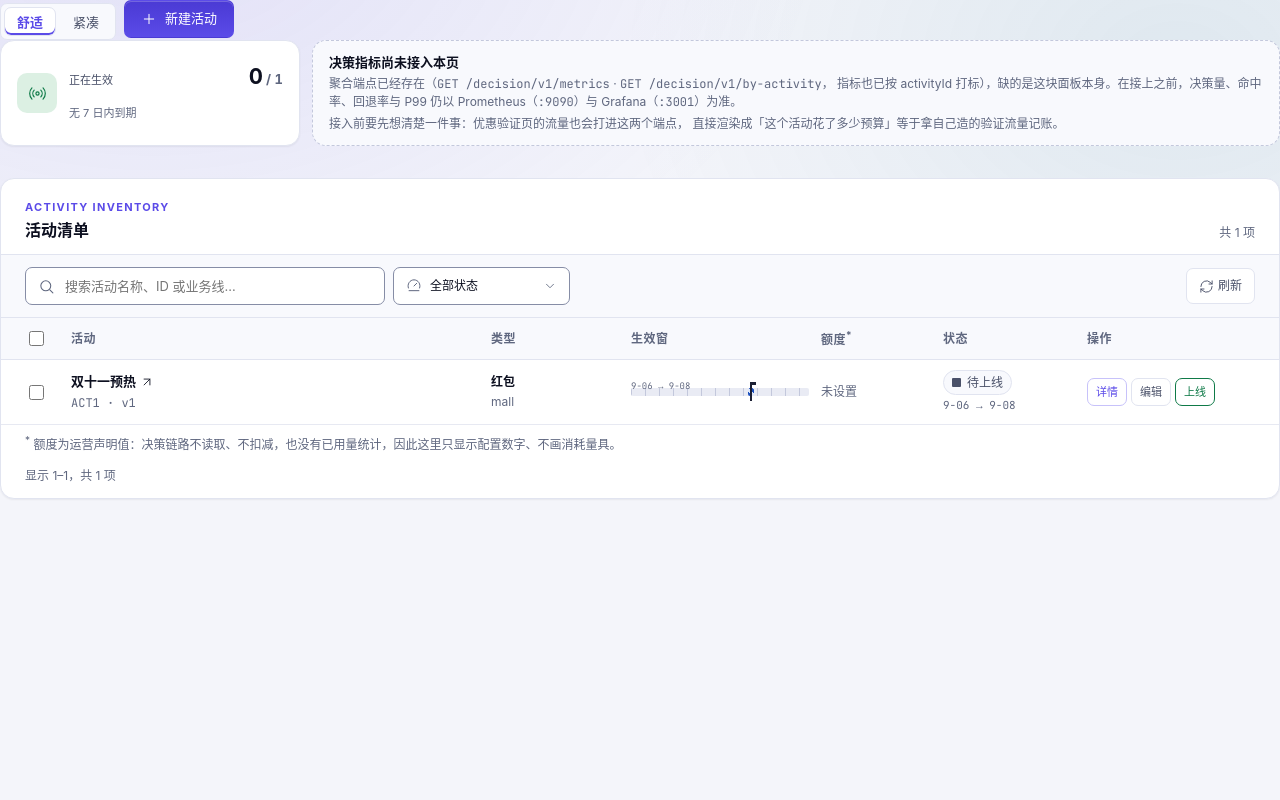
Test: ListView 工作台 › 搜索关键词**不得**回显进 list-view —— 跨租户隔离断言读的就是这块文本
Type "别家租户的活动名" into the search field with test id "list-search" at [218, 286], box [63,276,372,297]
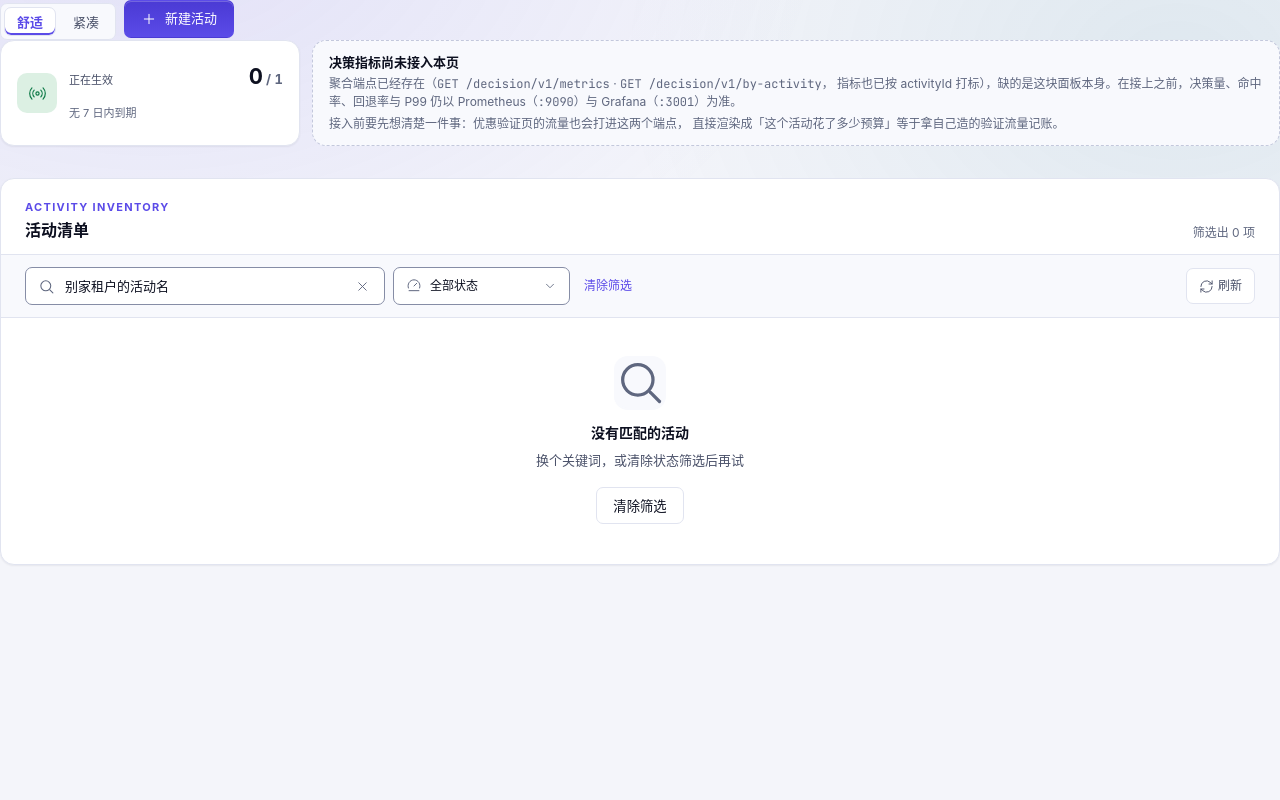
Expected: the element with test id "list-view" does not show "别家租户的活动名"
Result: the element with test id "list-empty" is shown at [536,358,744,524]
